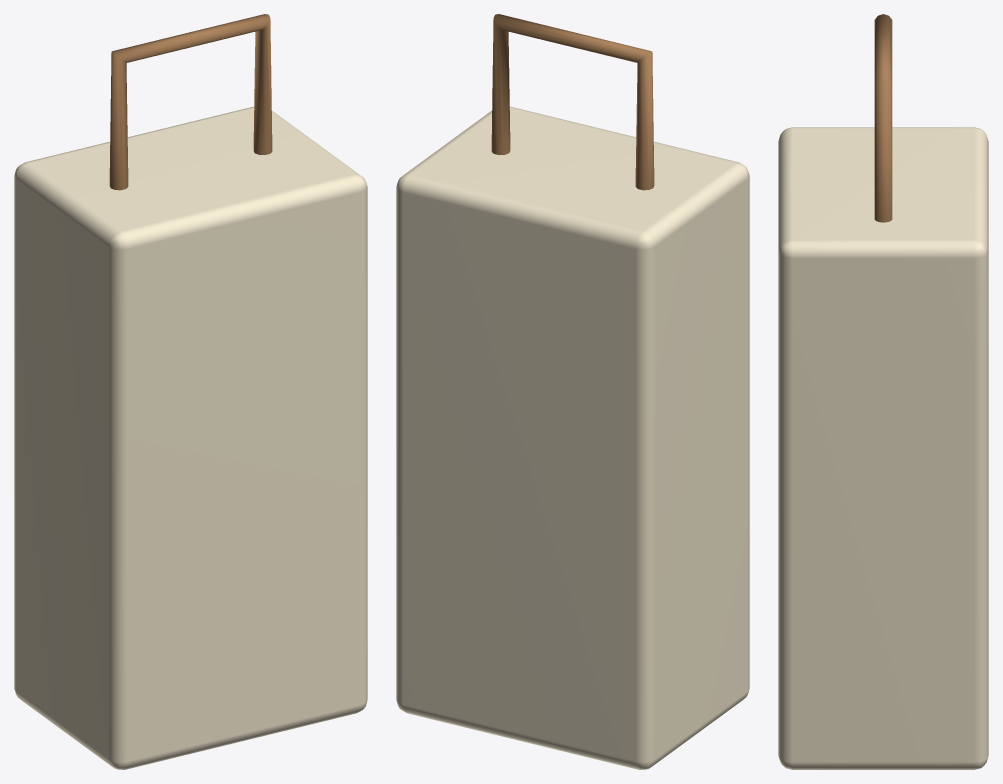
File: SM_EG_PaperShoppingBag_4f3da19274.fbx
3 views of the same model, side by side, from view 1: azimuth 30°, elevation 25°; view 2: azimuth 150°, elevation 25°; view 3: azimuth 270°, elevation 25° (orthographic).
Visible parts, largest first — view 1: SM_EG_PaperShoppingBag_4f3da19274; view 2: SM_EG_PaperShoppingBag_4f3da19274; view 3: SM_EG_PaperShoppingBag_4f3da19274.
Boxes of the visible parts, <box> form: SM_EG_PaperShoppingBag_4f3da19274: <box>14,14,367,769</box>; SM_EG_PaperShoppingBag_4f3da19274: <box>396,14,749,769</box>; SM_EG_PaperShoppingBag_4f3da19274: <box>778,14,988,769</box>.
Size of what is drawn, in the model's own units: 25 by 18 by 62.57.
